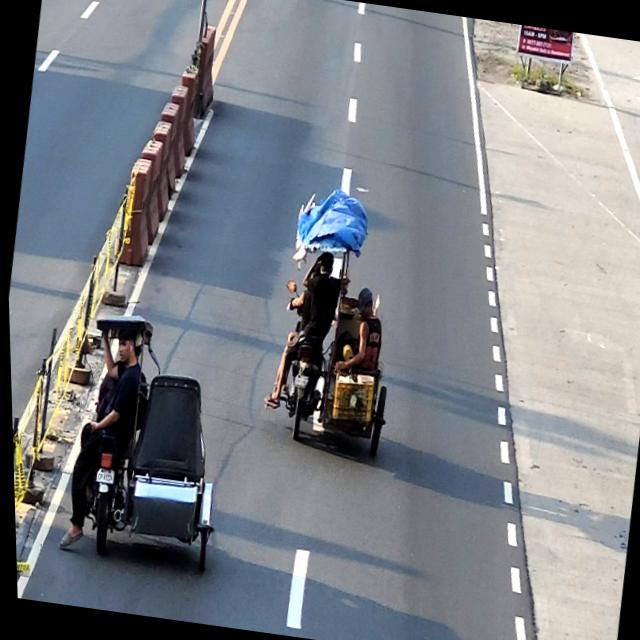License-Plate: (92, 468, 113, 485), (291, 374, 307, 389)
Tricycle: (58, 314, 240, 570), (263, 228, 408, 458)
